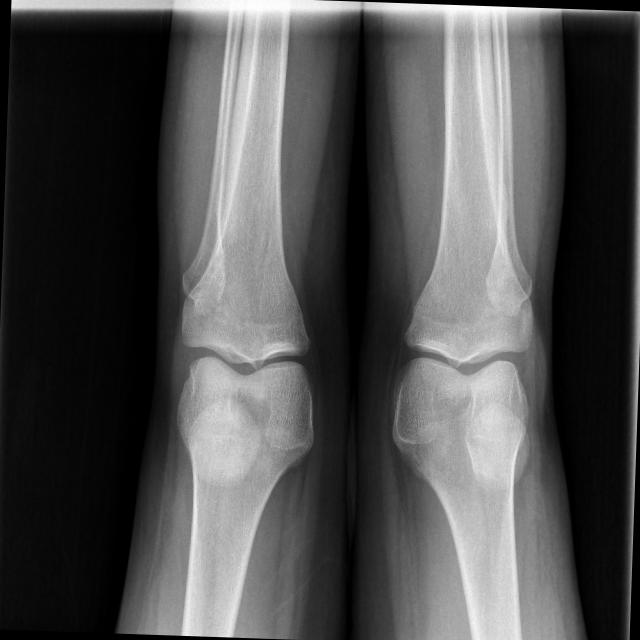Knee: (392, 304, 540, 440), (178, 305, 320, 425)
